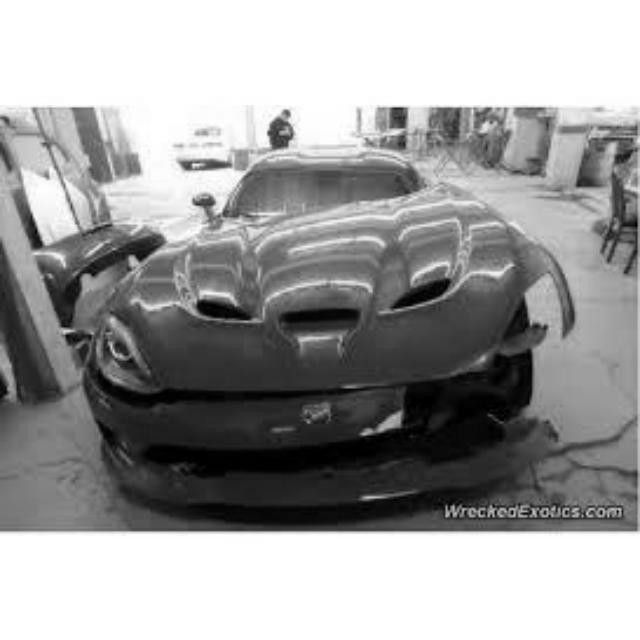Headlight-damage: (439, 247, 577, 387)
front-bumper-dent: (160, 393, 495, 510)
